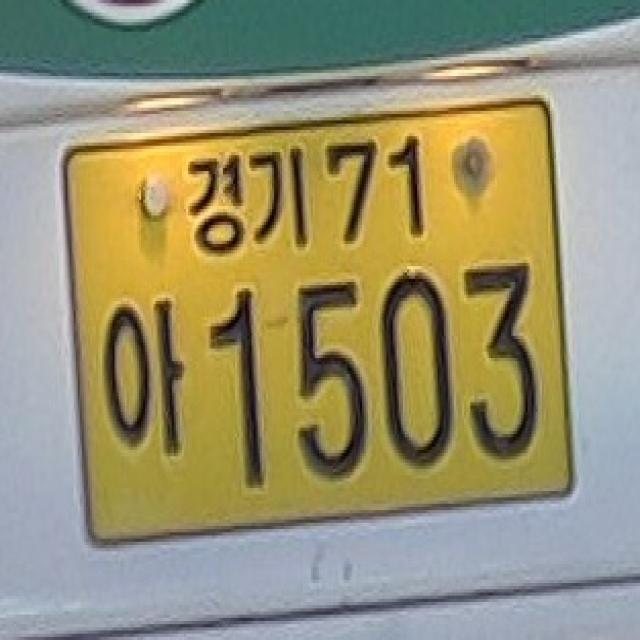plat: (61, 95, 576, 542)
